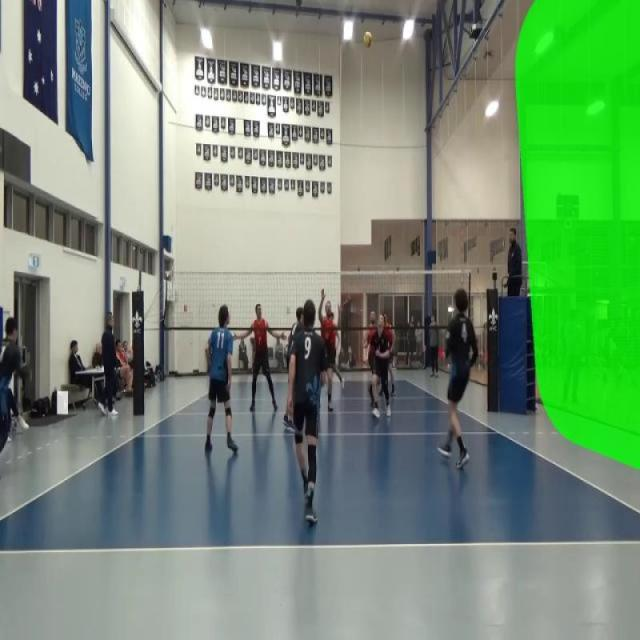volleyball: (362, 30, 373, 50)
